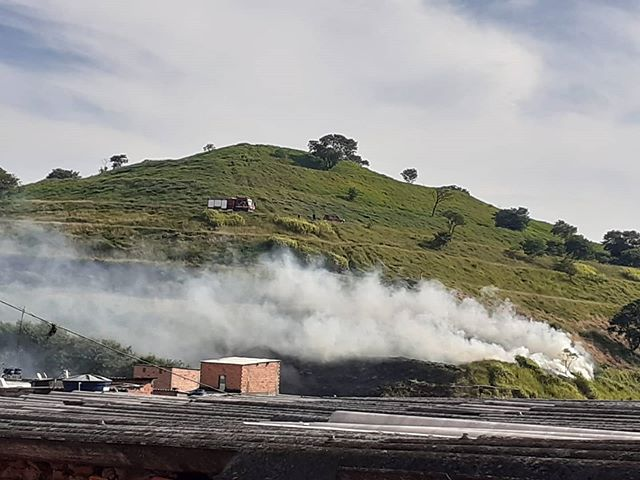building: (197, 355, 286, 395), (129, 360, 196, 395)
mountain: (20, 118, 640, 320)
sky: (1, 1, 640, 189)
tree: (559, 217, 640, 258), (304, 129, 367, 174), (496, 195, 530, 231)
